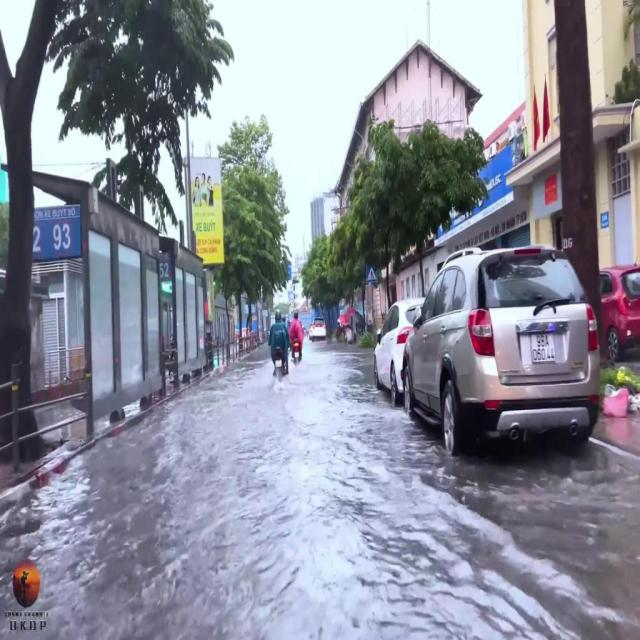duong_nguoi_di_bo_sang_ngang: (366, 262, 378, 283)
